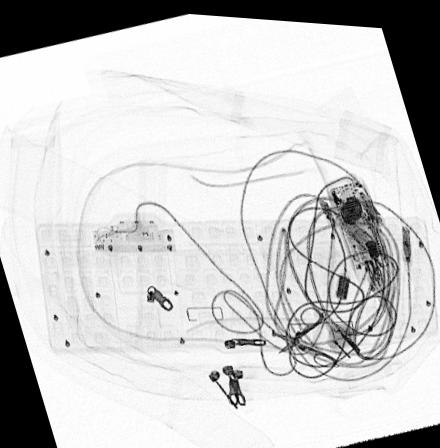Scissors: (276, 299, 340, 363)
